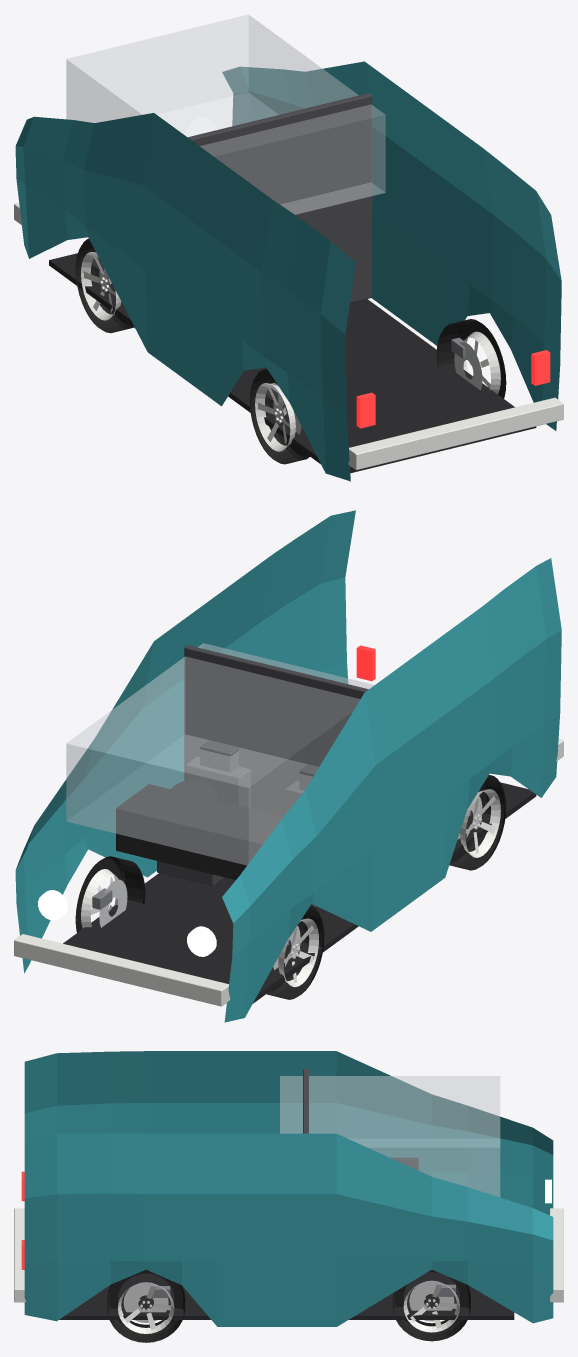
Rendered from Car_Volkswagen_Type2_T2_1970s_Complete.glb.
3 views of the same model, one above another, from view 1: azimuth 30°, elevation 25°; view 2: azimuth 150°, elevation 25°; view 3: azimuth 270°, elevation 25° (orthographic). The views are drawn at different scales.
Parts seen in each view (by area): view 1: BODY_VW_T2_Transporter_MainShell, GLASS_VW_T2, INTERIOR_SeatsAndBulkhead, CHASSIS_BellyPan, TRIM_VW_T2_Bumpers, WHEEL_RL_Tire, WHEEL_RR_Rim, WHEEL_RR_Tire, LIGHT_VW_T2_Taillights, WHEEL_FR_Tire, WHEEL_FR_Rim, WHEEL_RL_Rim (+1 smaller); view 2: BODY_VW_T2_Transporter_MainShell, GLASS_VW_T2, INTERIOR_SeatsAndBulkhead, CHASSIS_BellyPan, INTERIOR_Dashboard, TRIM_VW_T2_Bumpers, WHEEL_FL_Tire, WHEEL_RR_Tire, LIGHT_VW_T2_Headlights, WHEEL_RR_Rim, WHEEL_FR_Tire, WHEEL_FR_Rim (+3 smaller); view 3: BODY_VW_T2_Transporter_MainShell, GLASS_VW_T2, CHASSIS_BellyPan, TRIM_VW_T2_Bumpers, WHEEL_RL_Tire, WHEEL_FL_Tire, WHEEL_RL_Rim, WHEEL_FL_Rim, BRAKE_RL_Rotor, BRAKE_FL_Rotor, INTERIOR_SeatsAndBulkhead.
Boxes of the visible parts, bbox=[...] form: BODY_VW_T2_Transporter_MainShell: bbox=[15, 61, 561, 481]; GLASS_VW_T2: bbox=[66, 14, 385, 214]; INTERIOR_SeatsAndBulkhead: bbox=[188, 93, 372, 302]; CHASSIS_BellyPan: bbox=[49, 253, 536, 473]; TRIM_VW_T2_Bumpers: bbox=[14, 203, 563, 469]; WHEEL_RL_Tire: bbox=[436, 319, 506, 398]; WHEEL_RR_Rim: bbox=[255, 383, 295, 451]; WHEEL_RR_Tire: bbox=[249, 368, 309, 464]; LIGHT_VW_T2_Taillights: bbox=[356, 350, 550, 428]; WHEEL_FR_Tire: bbox=[75, 238, 133, 333]; WHEEL_FR_Rim: bbox=[81, 252, 121, 320]; WHEEL_RL_Rim: bbox=[463, 331, 500, 394]; BODY_VW_T2_Transporter_MainShell: bbox=[15, 510, 561, 1022]; GLASS_VW_T2: bbox=[66, 643, 374, 865]; INTERIOR_SeatsAndBulkhead: bbox=[157, 645, 368, 907]; CHASSIS_BellyPan: bbox=[63, 782, 536, 1003]; INTERIOR_Dashboard: bbox=[116, 784, 282, 879]; TRIM_VW_T2_Bumpers: bbox=[14, 739, 563, 1006]; WHEEL_FL_Tire: bbox=[75, 856, 145, 932]; WHEEL_RR_Tire: bbox=[449, 775, 506, 870]; LIGHT_VW_T2_Headlights: bbox=[38, 890, 216, 956]; WHEEL_RR_Rim: bbox=[460, 789, 500, 857]; WHEEL_FR_Tire: bbox=[267, 905, 324, 999]; WHEEL_FR_Rim: bbox=[278, 918, 318, 987]; BODY_VW_T2_Transporter_MainShell: bbox=[24, 1051, 553, 1326]; GLASS_VW_T2: bbox=[280, 1076, 500, 1197]; CHASSIS_BellyPan: bbox=[59, 1272, 514, 1319]; TRIM_VW_T2_Bumpers: bbox=[14, 1208, 563, 1302]; WHEEL_RL_Tire: bbox=[107, 1269, 185, 1342]; WHEEL_FL_Tire: bbox=[392, 1270, 470, 1341]; WHEEL_RL_Rim: bbox=[118, 1282, 174, 1333]; WHEEL_FL_Rim: bbox=[403, 1281, 459, 1332]; BRAKE_RL_Rotor: bbox=[123, 1282, 168, 1322]; BRAKE_FL_Rotor: bbox=[409, 1280, 454, 1321]; INTERIOR_SeatsAndBulkhead: bbox=[303, 1069, 308, 1133].
Bounding box in the file's own units: 1.81 × 1.95 × 4.62.
